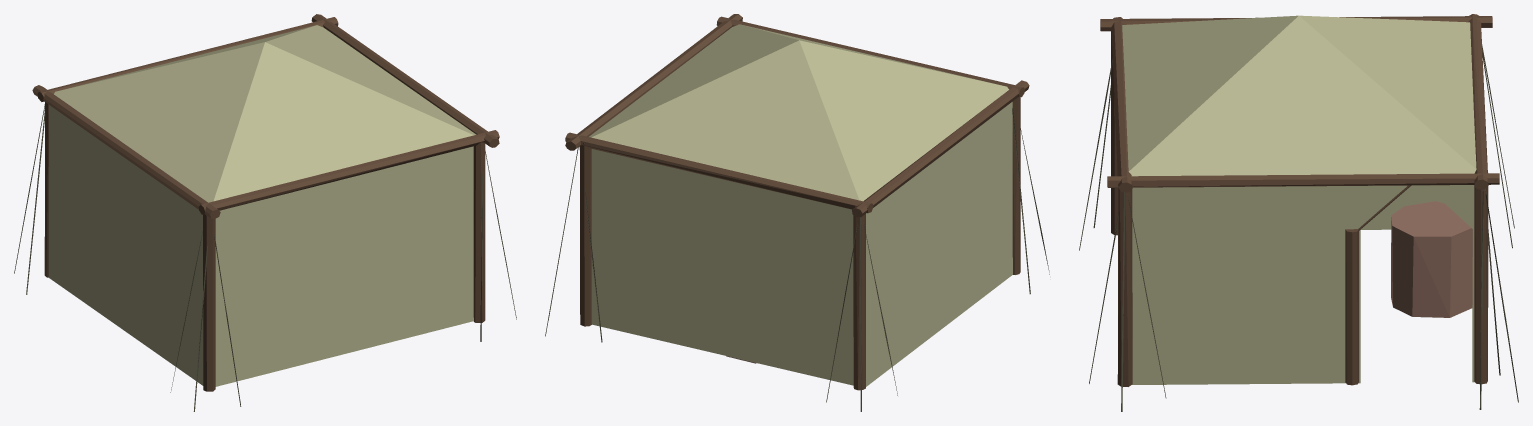
Rendered from BarracaPescador-V1.fbx.
3 views of the same model, side by side, from view 1: azimuth 30°, elevation 25°; view 2: azimuth 150°, elevation 25°; view 3: azimuth 270°, elevation 25° (orthographic). The views are drawn at different scales.
Parts seen in each view (by area): view 1: Plane.005, TRONCO.029, LINHA.055; view 2: Plane.005, TRONCO.029, LINHA.055; view 3: Plane.005, TRONCO.029, Cylinder.007, LINHA.055.
Part boxes in pixels (box(x1,y1,x2,y2)): Plane.005: box(48, 25, 476, 386); TRONCO.029: box(32, 14, 499, 391); LINHA.055: box(14, 104, 516, 411); Plane.005: box(589, 24, 1012, 386); TRONCO.029: box(565, 14, 1029, 390); LINHA.055: box(545, 107, 1049, 411); Plane.005: box(1122, 15, 1476, 384); TRONCO.029: box(1100, 14, 1499, 386); Cylinder.007: box(1391, 201, 1472, 317); LINHA.055: box(1079, 44, 1518, 411).
Size of the model in its own units: 126 by 93.43 by 123.
